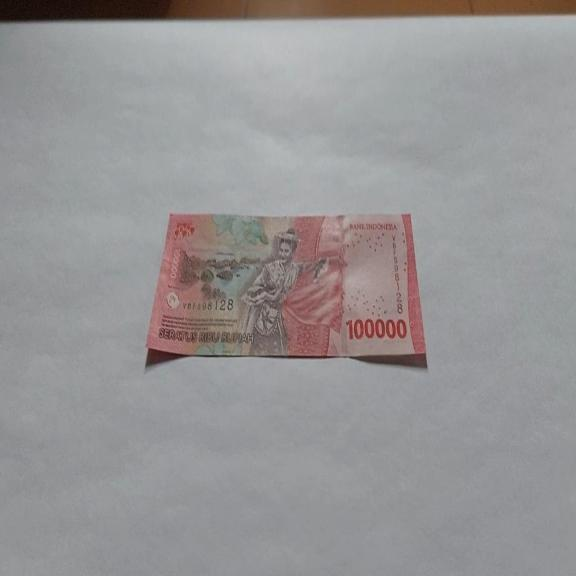Kertas: (144, 210, 428, 368), (345, 315, 408, 342)
